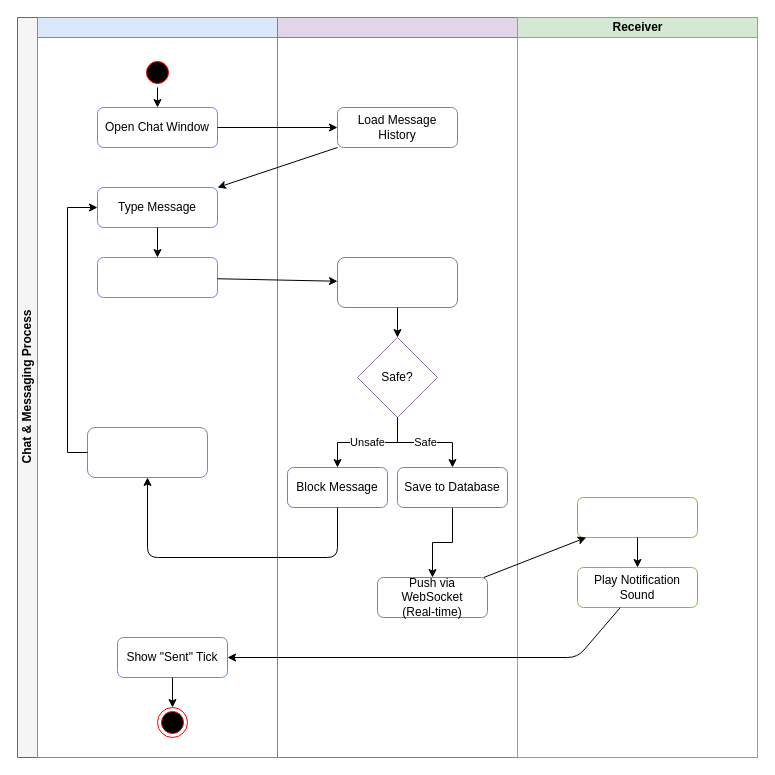
Image size: 775x775. Some labels were removed from this diagram. The box of each missing label's shape, as (x1, y1, x2, y2) in pixels:
Click "Send": (96, 256, 218, 298)
Display New Message: (576, 496, 698, 538)
Scan Content (Phone #, Banned Words): (336, 256, 458, 308)
Sender (Freelancer/Client): (36, 16, 278, 758)
Show Warning: "Sharing Contacts Forbidden": (86, 426, 208, 478)
System (Sho8la): (276, 16, 518, 758)
